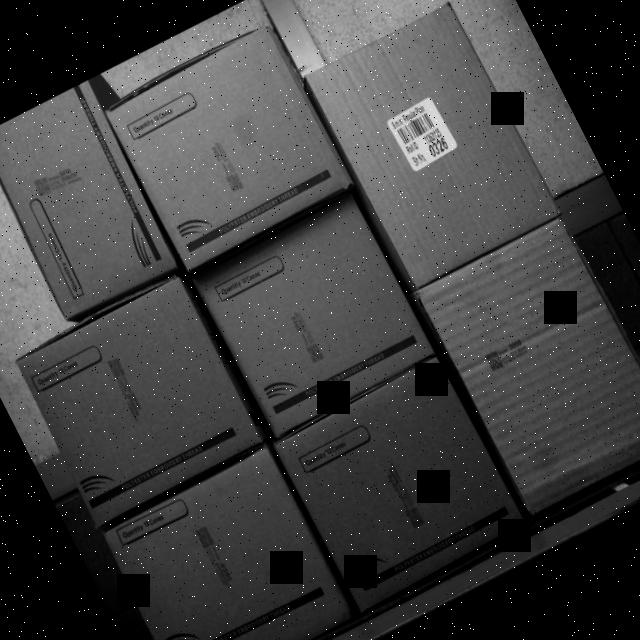box: (300, 0, 559, 291), (416, 217, 640, 515), (11, 274, 268, 528), (275, 360, 526, 610), (104, 21, 356, 268), (193, 190, 436, 433), (99, 449, 356, 640), (0, 80, 181, 324)
